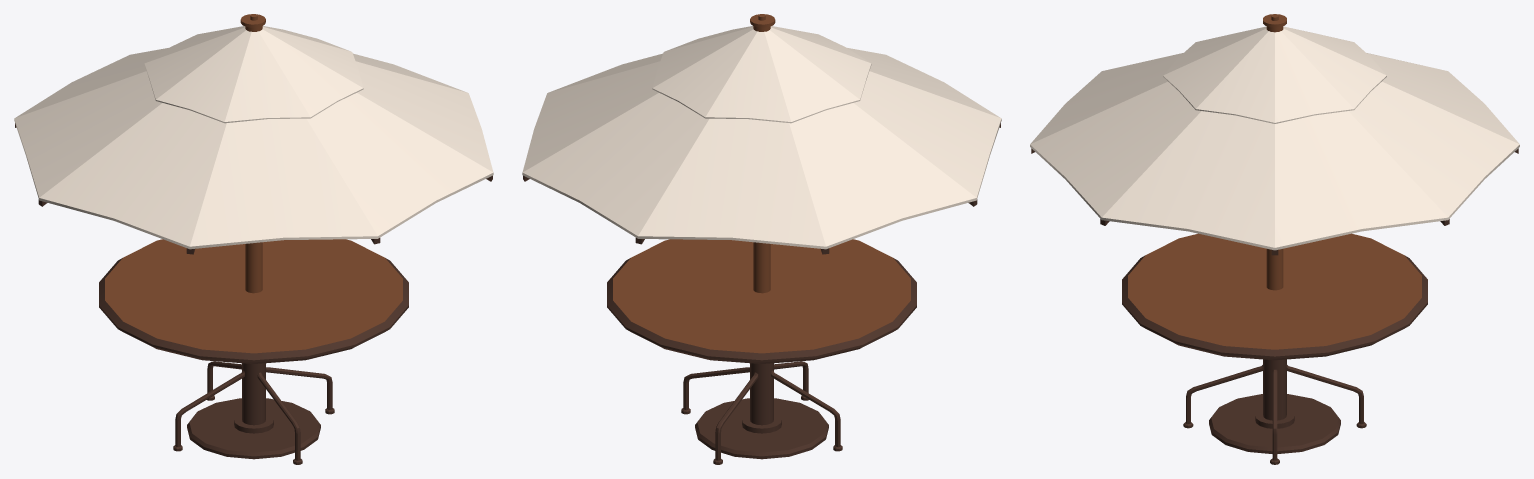
Rendered from fbx_plaza_parasol2.fbx.
3 renders of one model, left to right at view 1: azimuth 30°, elevation 25°; view 2: azimuth 150°, elevation 25°; view 3: azimuth 270°, elevation 25°, orthographic.
Visible parts, largest first — view 1: fbx_plaza_parasol2; view 2: fbx_plaza_parasol2; view 3: fbx_plaza_parasol2.
Boxes of the visible parts, bbox=[...] form: fbx_plaza_parasol2: bbox=[14, 14, 493, 464]; fbx_plaza_parasol2: bbox=[522, 14, 1001, 464]; fbx_plaza_parasol2: bbox=[1030, 14, 1519, 464].
Bounding box in the file's own units: 5.33 × 4.93 × 5.33.
1 material, 1 textured.
